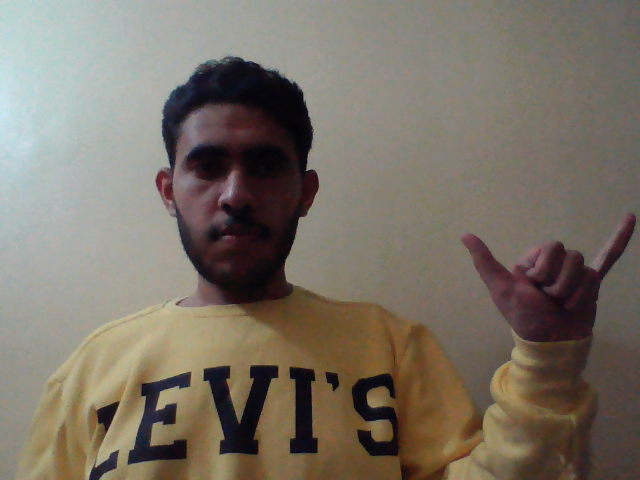Y: (455, 209, 637, 357)
